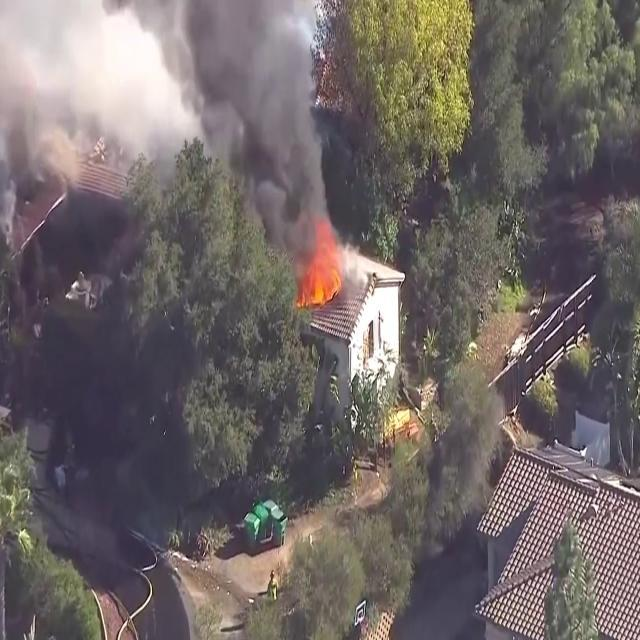Fire: (298, 232, 344, 310)
Smoke: (160, 0, 337, 261)
